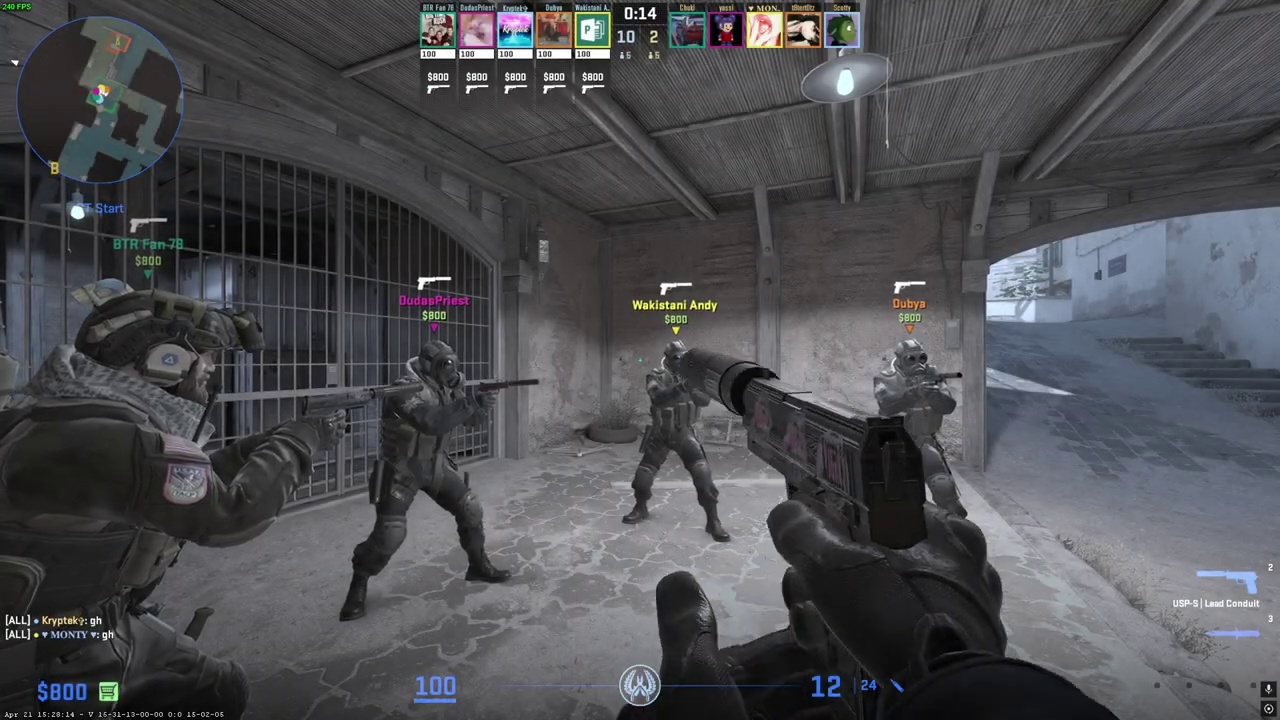CT: (3, 290, 266, 720), (360, 339, 507, 611), (860, 337, 973, 516), (626, 339, 726, 541)
